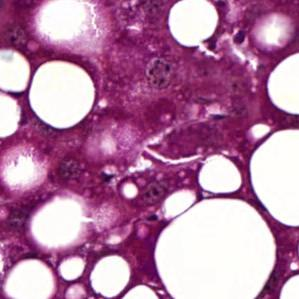steatosis: (29, 61, 99, 128), (167, 0, 222, 49), (197, 154, 246, 194)
